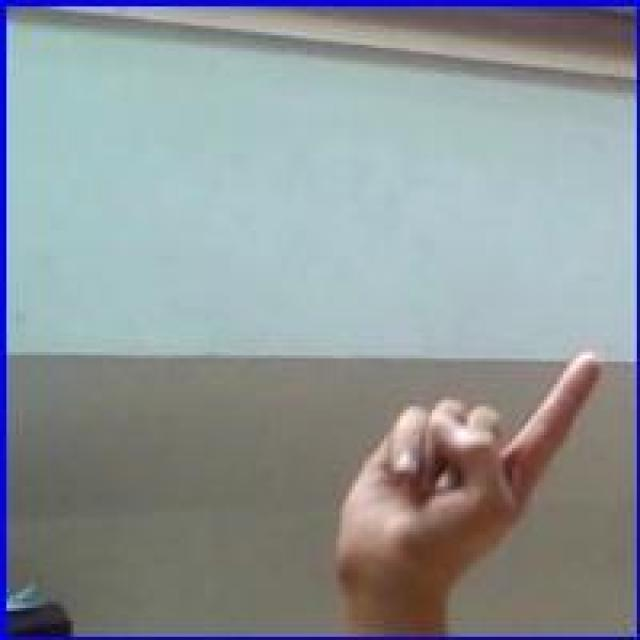Z: (334, 350, 600, 610)
